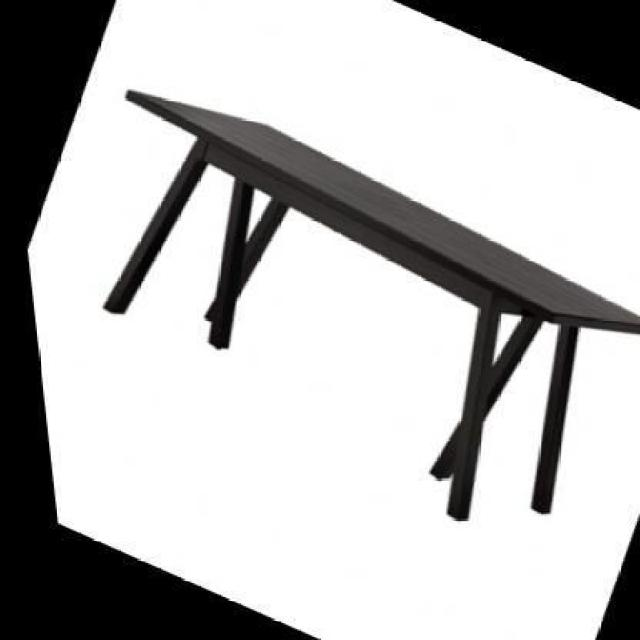tables: (100, 85, 638, 520)
